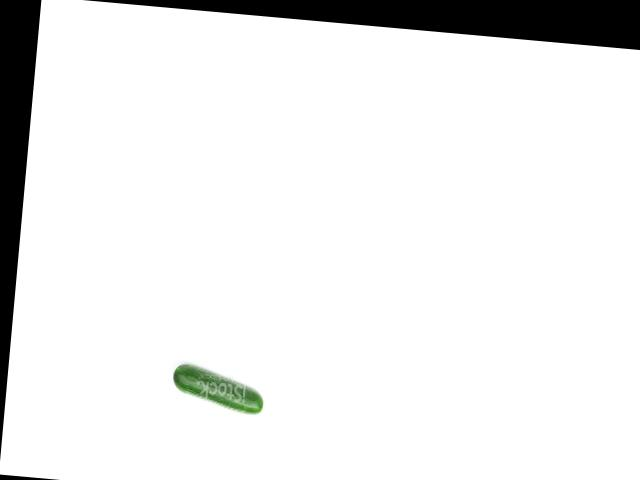cucumber: (169, 363, 266, 414)
